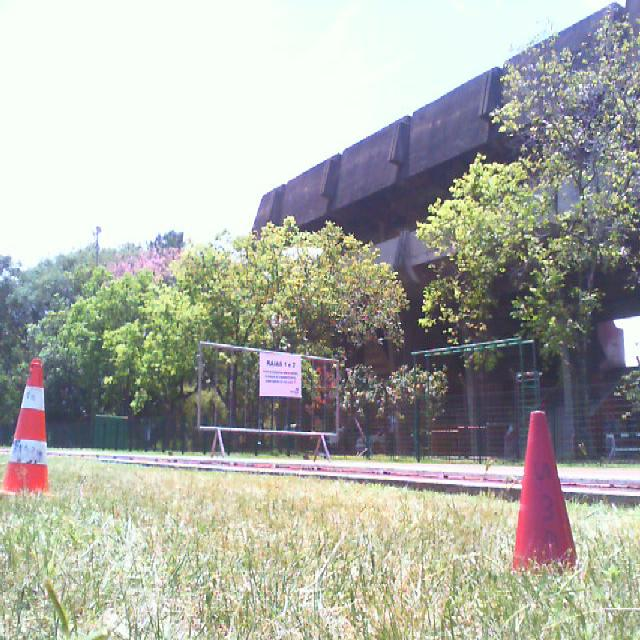cone: (512, 412, 578, 573), (0, 357, 52, 499)
